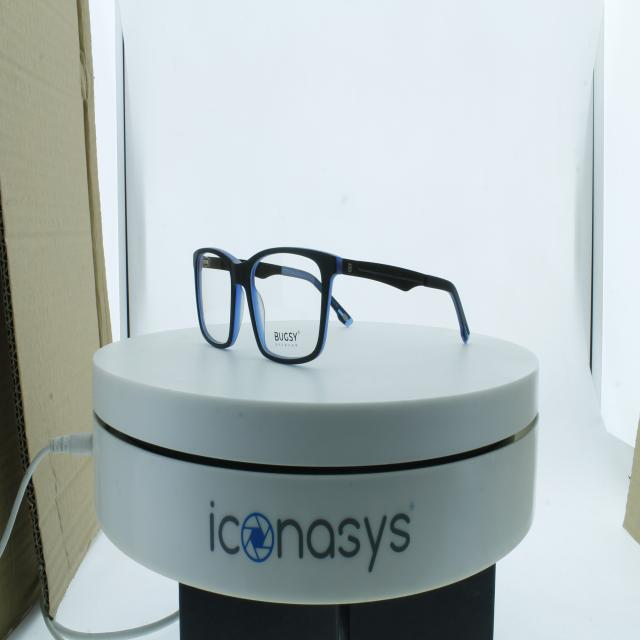Specs: (181, 229, 484, 382)
